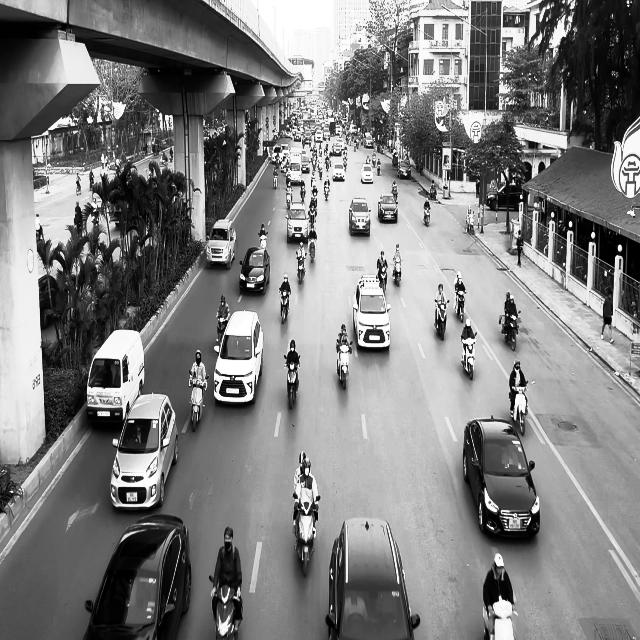car: (83, 514, 192, 639), (326, 517, 420, 639), (463, 416, 540, 540), (110, 392, 179, 511), (213, 309, 264, 405), (352, 274, 392, 349), (206, 218, 237, 270), (240, 247, 270, 294), (486, 182, 524, 211), (286, 203, 309, 243), (349, 197, 371, 236), (378, 194, 398, 223), (398, 159, 411, 179), (361, 164, 374, 183)
motorbike: (292, 493, 320, 577), (209, 575, 243, 639), (189, 370, 209, 432), (509, 381, 529, 436), (284, 355, 300, 409), (500, 310, 521, 351), (336, 339, 353, 388), (461, 331, 478, 380), (434, 299, 450, 340), (216, 314, 229, 346), (454, 288, 466, 322), (280, 288, 290, 324), (296, 252, 306, 284), (392, 259, 402, 286), (308, 234, 317, 263), (466, 212, 475, 235), (424, 203, 431, 227)
